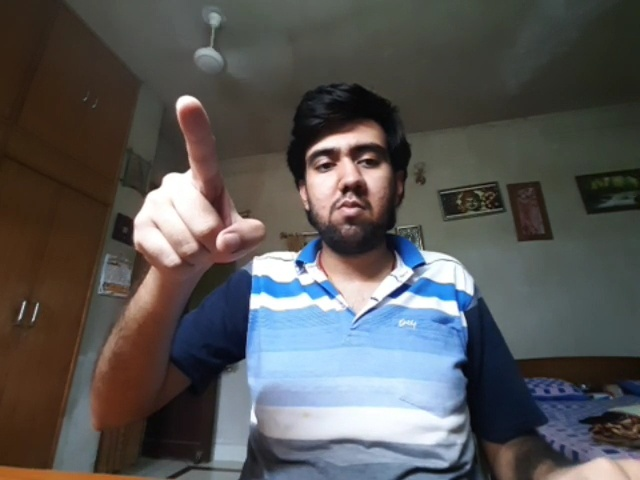You: (134, 96, 266, 273)
